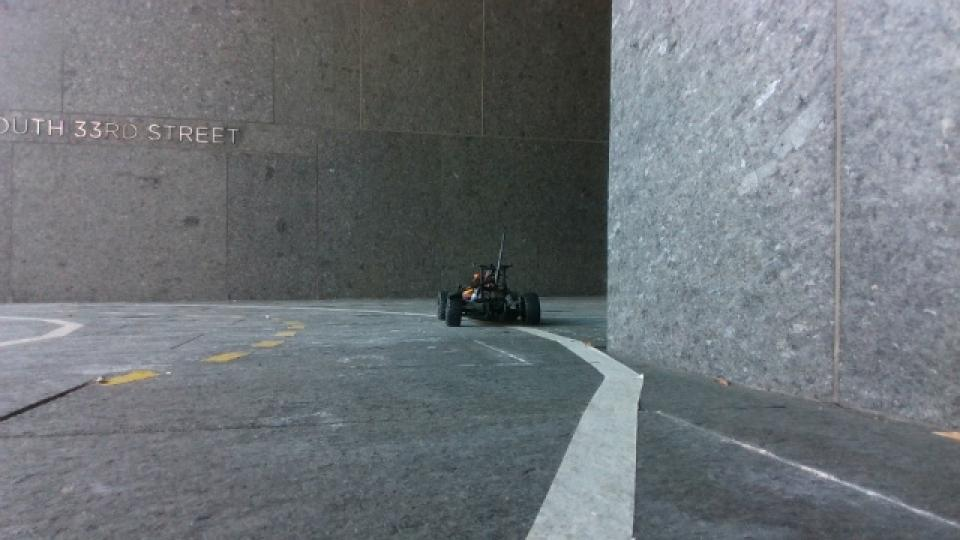car: (433, 231, 543, 330)
